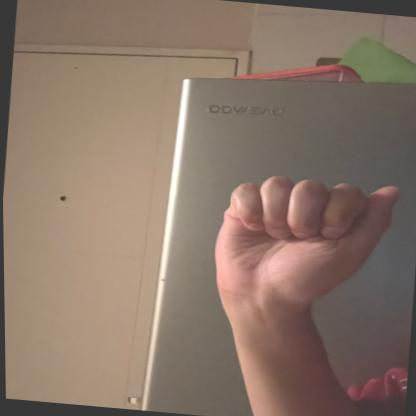A: (187, 162, 413, 315)
